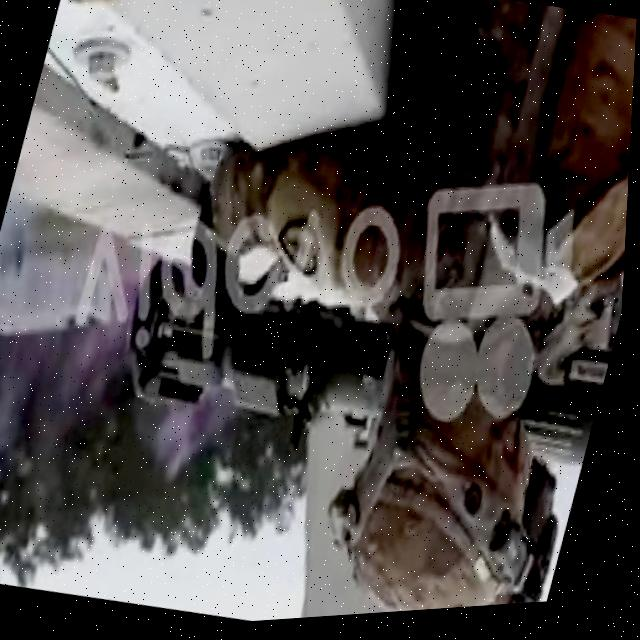rocket: (77, 130, 633, 605)
